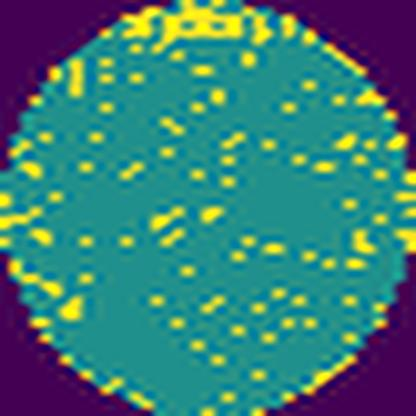Edge-Loc: (112, 0, 278, 43)
